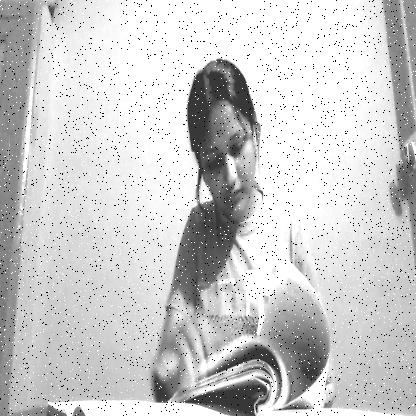Normal: (195, 57, 258, 222)
